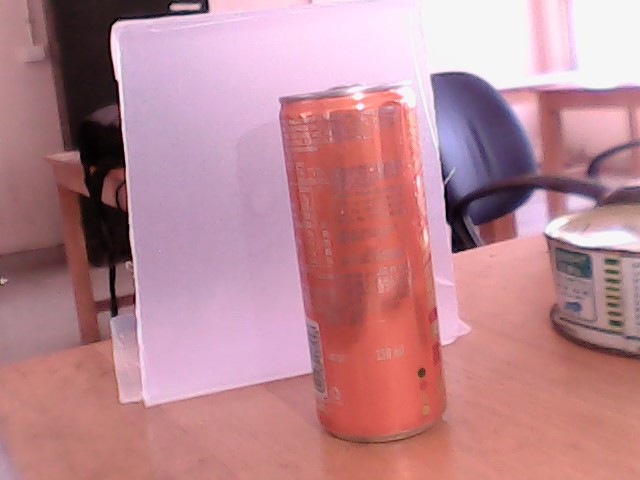Metal: (246, 91, 465, 480)
